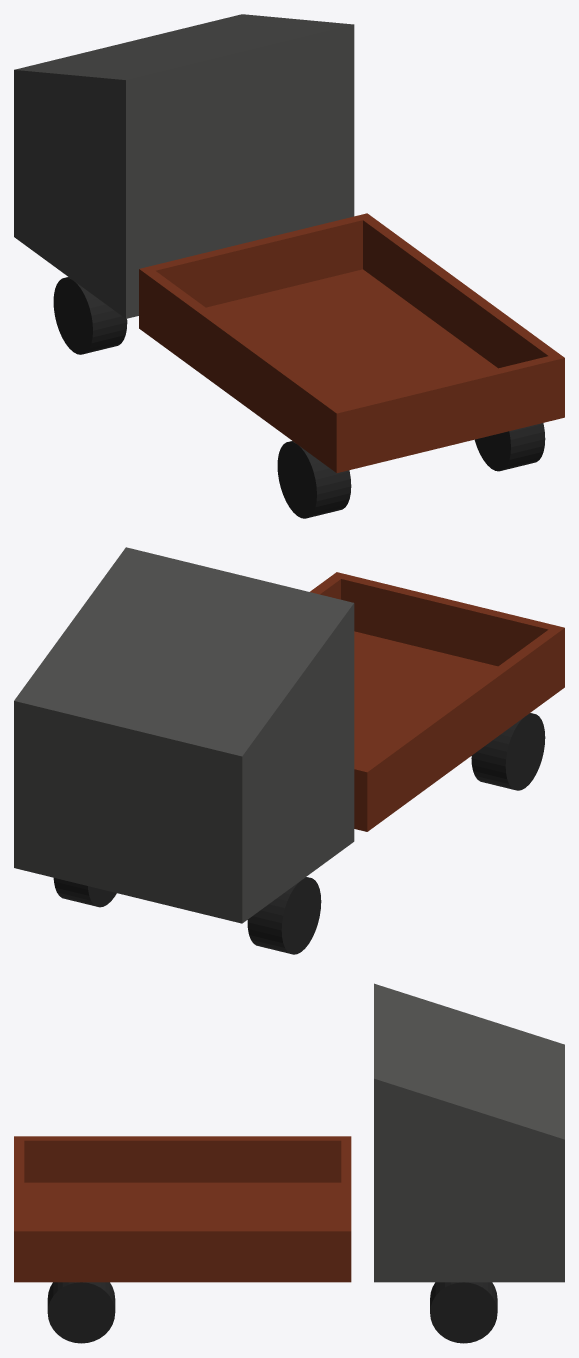
The model's file is ShipmentCar.fbx.
3 renders of one model, top to bottom at view 1: azimuth 30°, elevation 25°; view 2: azimuth 150°, elevation 25°; view 3: azimuth 270°, elevation 25°, orthographic. The views are drawn at different scales.
Parts seen in each view (by area): view 1: ShipmentCar; view 2: ShipmentCar; view 3: ShipmentCar.
Boxes of the visible parts, x1=… form: ShipmentCar: x1=14, y1=14, x2=564, y2=518; ShipmentCar: x1=14, y1=547, x2=564, y2=954; ShipmentCar: x1=14, y1=983, x2=564, y2=1343.
Bounding box in the file's own units: 2 × 2.6 × 4.9.
